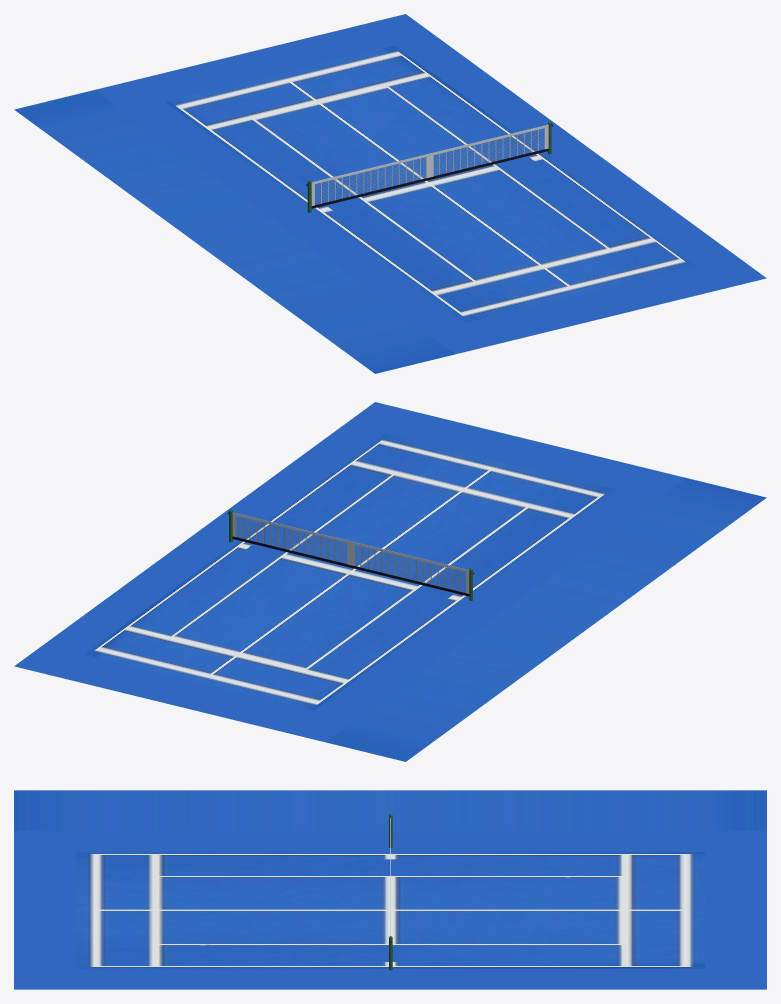
File: tennis_court.glb
The picture shows the model from 3 angles, top to bottom: view 1: azimuth 30°, elevation 25°; view 2: azimuth 150°, elevation 25°; view 3: azimuth 270°, elevation 25°; orthographic projection. The views are drawn at different scales.
Parts seen in each view (by area): view 1: Tennis-court-blue_2, grid_1; view 2: Tennis-court-blue_2, grid_1; view 3: Tennis-court-blue_2, grid_1.
Part boxes in pixels (<box>): Tennis-court-blue_2: <box>14,14,766,373</box>; grid_1: <box>306,121,552,212</box>; Tennis-court-blue_2: <box>14,402,766,761</box>; grid_1: <box>227,509,474,600</box>; Tennis-court-blue_2: <box>14,790,766,989</box>; grid_1: <box>389,814,392,970</box>.
Size of the model in its own units: 5.36 by 0.4351 by 8.56.
3 materials, 3 textured.
